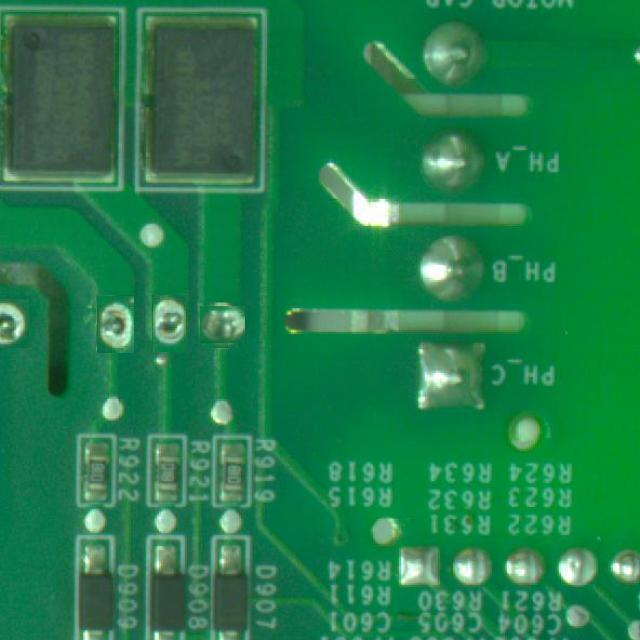lack_of_part: (96, 295, 134, 353), (152, 294, 186, 352), (202, 304, 243, 346), (0, 300, 29, 350)
